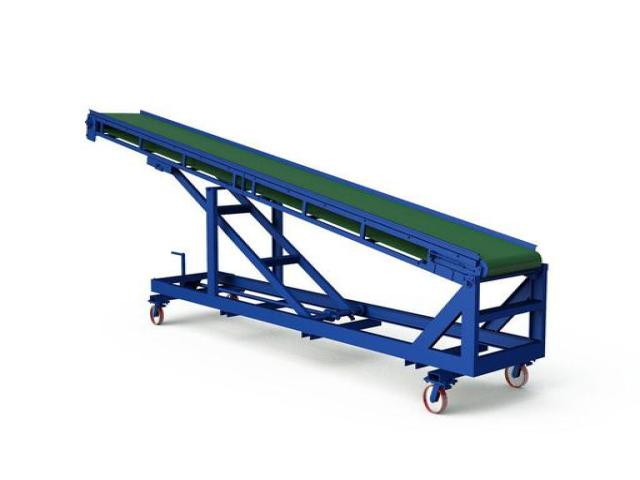conveyor: (81, 107, 551, 414)
